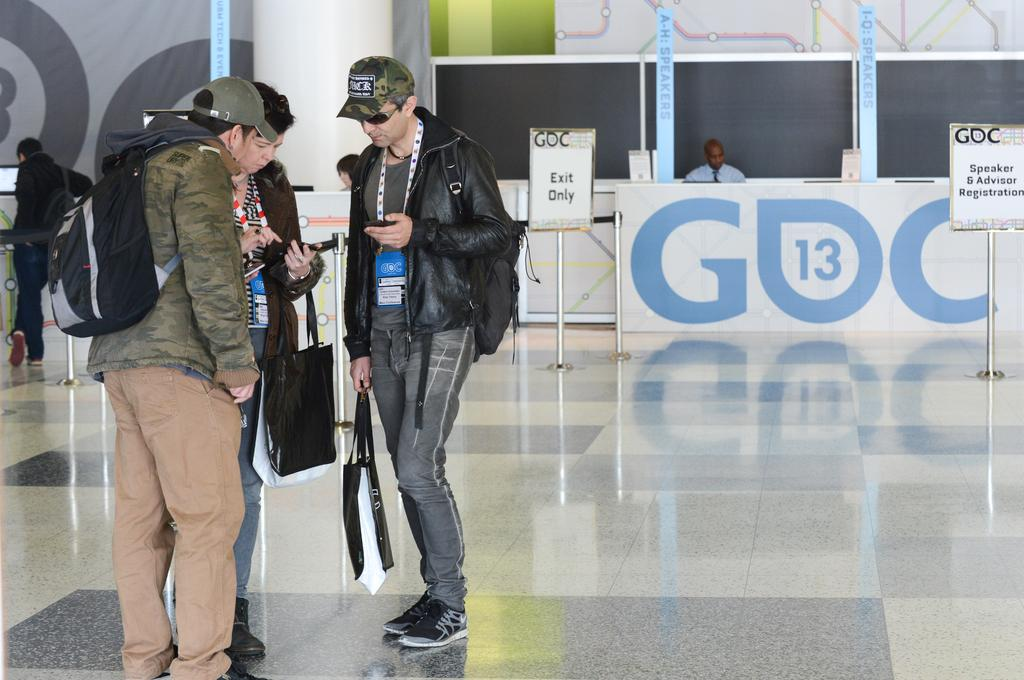Luggage-and-bags: (35, 145, 200, 352), (436, 134, 543, 352), (255, 249, 344, 483), (339, 384, 394, 594)
